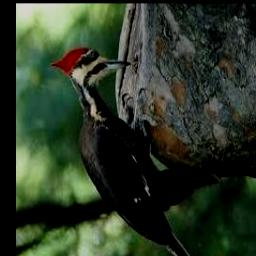Woodpecker: (51, 48, 194, 256)
